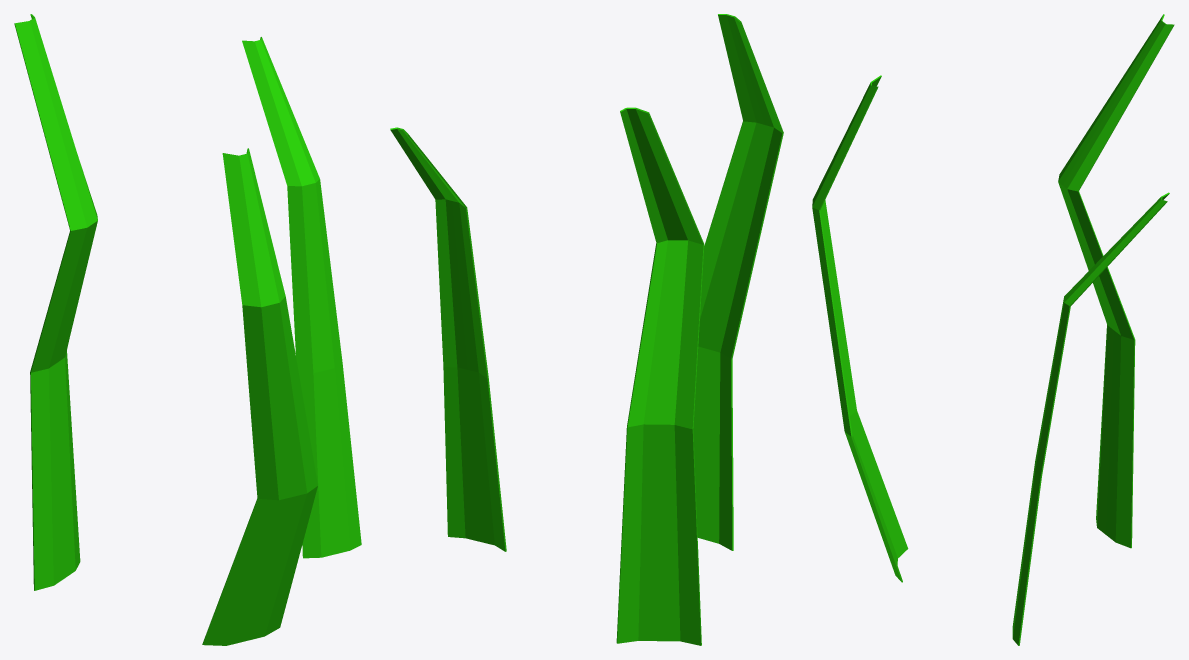
Rendered from grass02.fbx.
The picture shows the model from 3 angles, left to right: view 1: azimuth 30°, elevation 25°; view 2: azimuth 150°, elevation 25°; view 3: azimuth 270°, elevation 25°; orthographic projection. The views are drawn at different scales.
Visible parts, largest first — view 1: Plane; view 2: Plane; view 3: Plane.
Boxes of the visible parts, x1,y1,x2,y2 form: Plane: [14, 14, 361, 645]; Plane: [390, 14, 783, 645]; Plane: [812, 14, 1174, 645].
Bounding box in the file's own units: 22.01 × 39.52 × 25.36.
